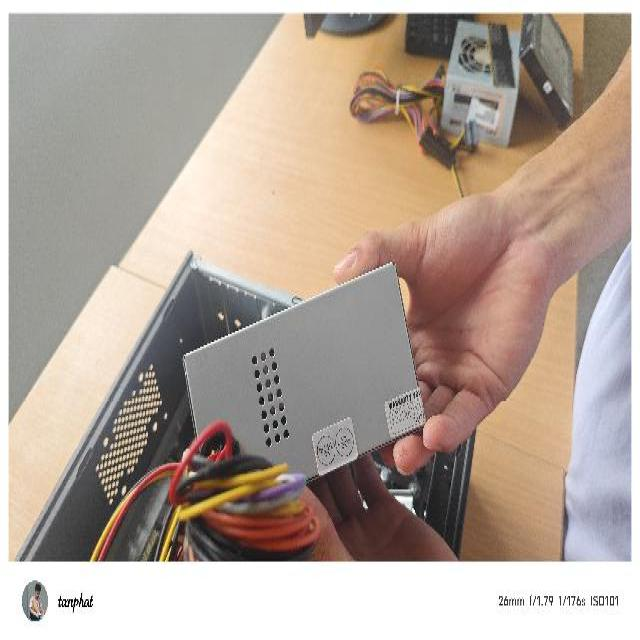PSU: (182, 261, 428, 504)
